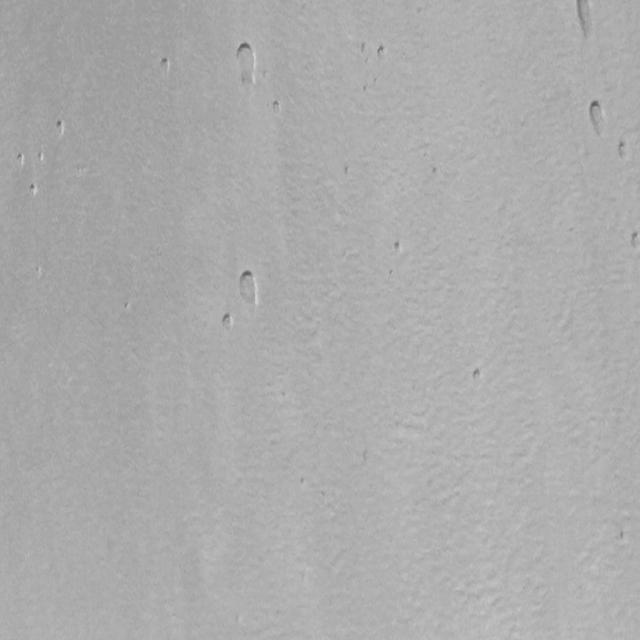pin holes: (230, 37, 261, 92), (570, 0, 602, 41), (235, 270, 266, 312), (583, 98, 610, 140), (468, 363, 488, 388), (615, 138, 633, 164), (217, 310, 236, 334), (158, 54, 172, 78), (376, 43, 390, 63), (392, 237, 407, 255), (270, 98, 284, 116), (359, 40, 371, 60), (55, 119, 68, 137), (16, 151, 28, 170), (628, 229, 639, 249), (431, 160, 442, 180), (27, 184, 39, 199), (341, 163, 351, 178), (36, 150, 46, 164), (361, 81, 369, 96)
